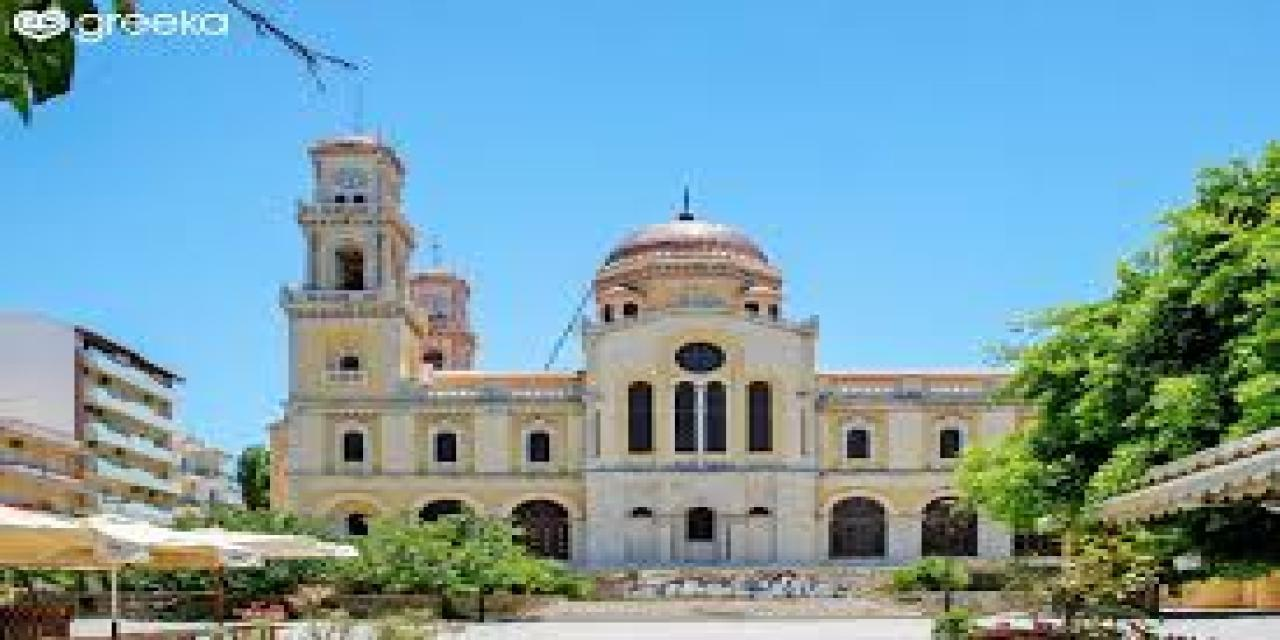Agios Minas: (251, 125, 1120, 575)
